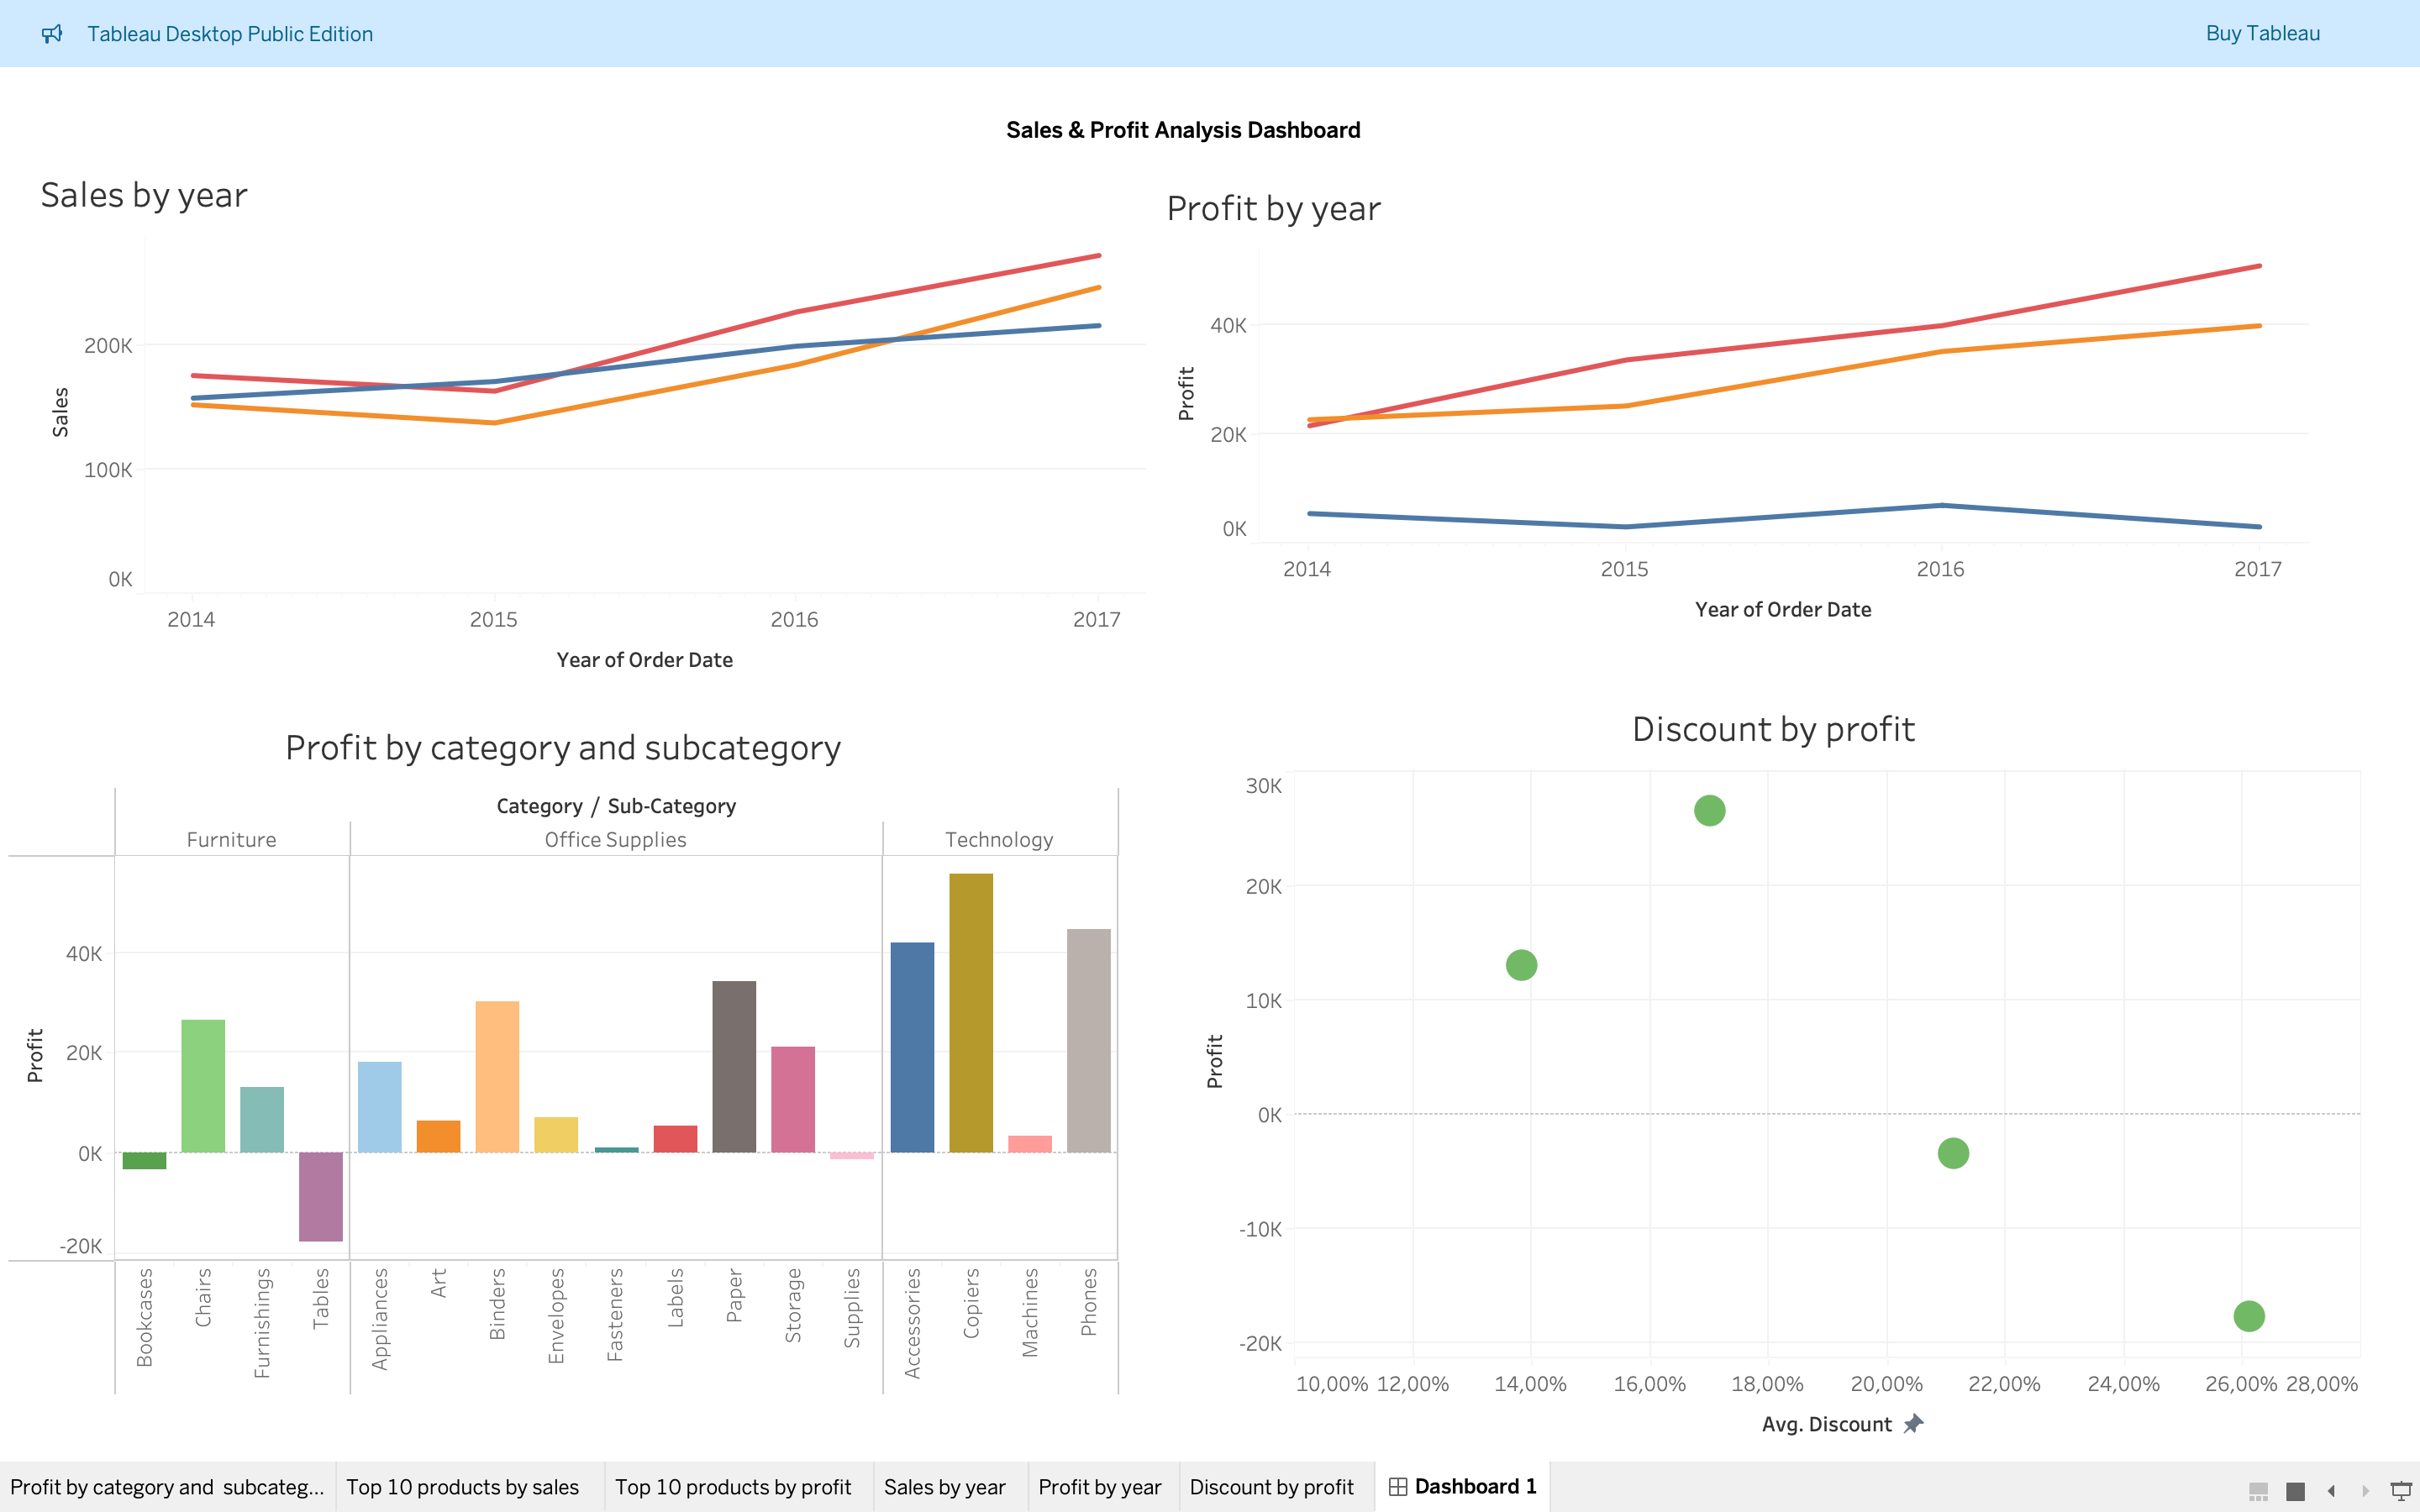

The dashboard page shown, as its layout file describes it:
{"tool":"tableau","page":{"name":"Dashboard 1","canvas":[1000,1000],"units":"permille","ordinal":0},"visuals":[{"type":"text","box":[316.5,14.2,345,62.9]},{"type":"worksheet","title":"Sales by year ","mark":"Automatic","rows":["Sales"],"cols":["Order Date"],"box":[13.8,69.1,460,375.2]},{"type":"worksheet","title":"Profit by year","mark":"Automatic","rows":["Profit"],"cols":["Order Date"],"box":[479.2,78.6,475.2,328.6]},{"type":"worksheet","title":"Discount by profit","mark":"Circle","rows":["Profit"],"cols":["Discount"],"box":[490.6,451.3,484.9,539.3]},{"type":"worksheet","title":"Profit by category and  subcategory ","mark":"Automatic","rows":["Profit"],"cols":["Category","Sub-Category"],"box":[3.2,465.4,458.9,487.4]}]}

Visuals, with their boxes on the dashboard's canvas, which has no fixed pixel size, in thousandths of its width and height (x1, y1, x2, y2). These are canvas units, not pixel positions in the 2420x1512 screenshot, which may show the page scaled, cropped or inside an application window:
text: 316:14:662:77
"Sales by year " worksheet: 14:69:474:444
"Profit by year" worksheet: 479:79:954:407
"Discount by profit" worksheet (Circle marks): 491:451:976:991
"Profit by category and  subcategory " worksheet: 3:465:462:953
